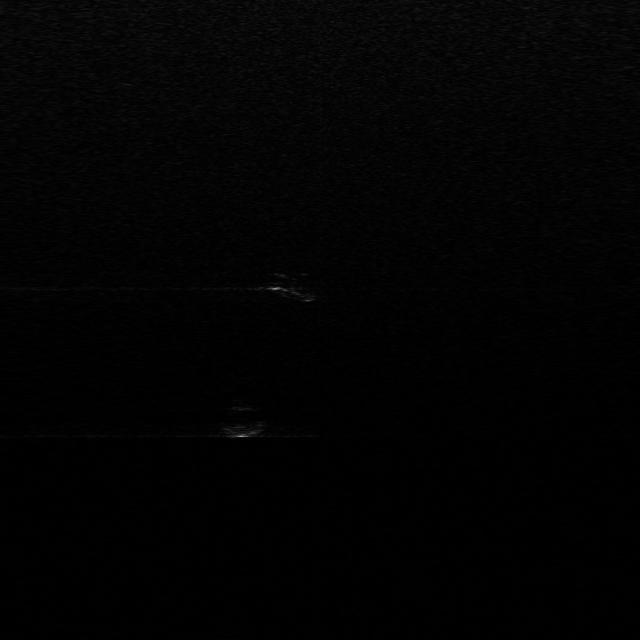ball: (217, 402, 266, 438)
tyre: (264, 270, 316, 301)
